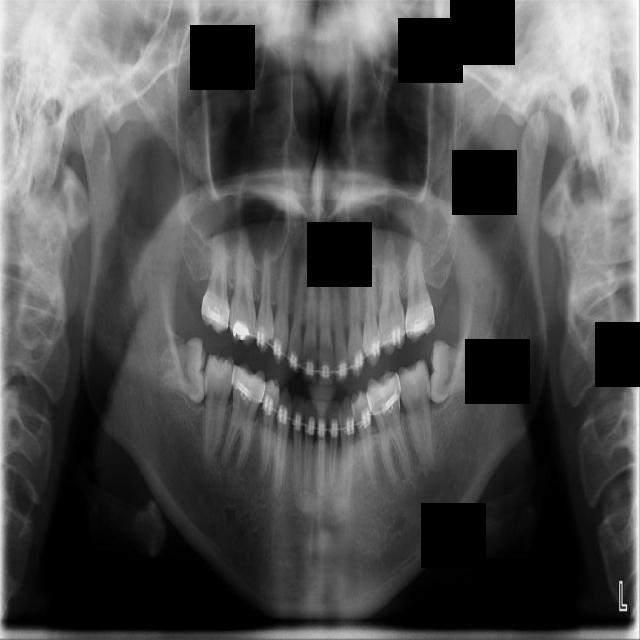73: (584, 551, 590, 560)
BioHorizons Implant: (402, 222, 435, 344)
Biomet 3i Implant: (424, 337, 480, 405)
Blue Sky Bio Implant: (395, 358, 441, 464)
Caries: (201, 217, 234, 333)
Implant: (192, 354, 237, 464)
Keystone Dental Implant: (156, 337, 209, 406)
